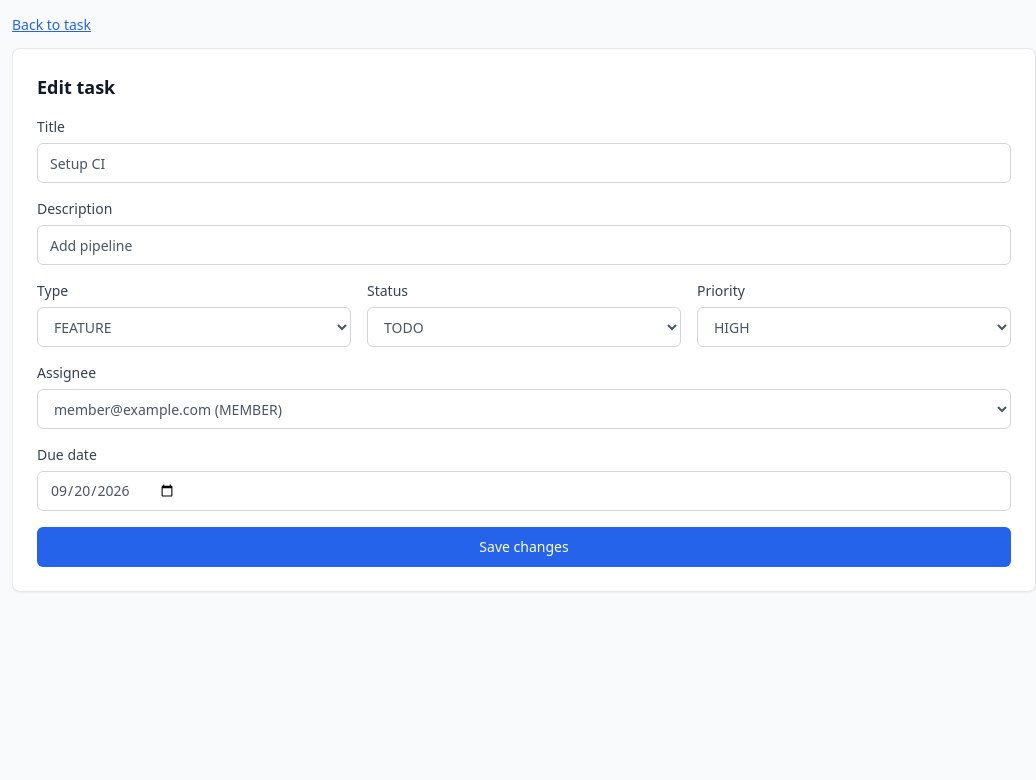
it: Task create/edit validation + assignment + delete confirmation (behavior) › edit shows client validation error for cleared title (behavior)
This screenshot has width=1036, height=780.
expect the form named "task form" is shown: met, box [37,117,1011,567]
Clear the field labelled "Title" at (524, 163), box [37,143,1011,183]
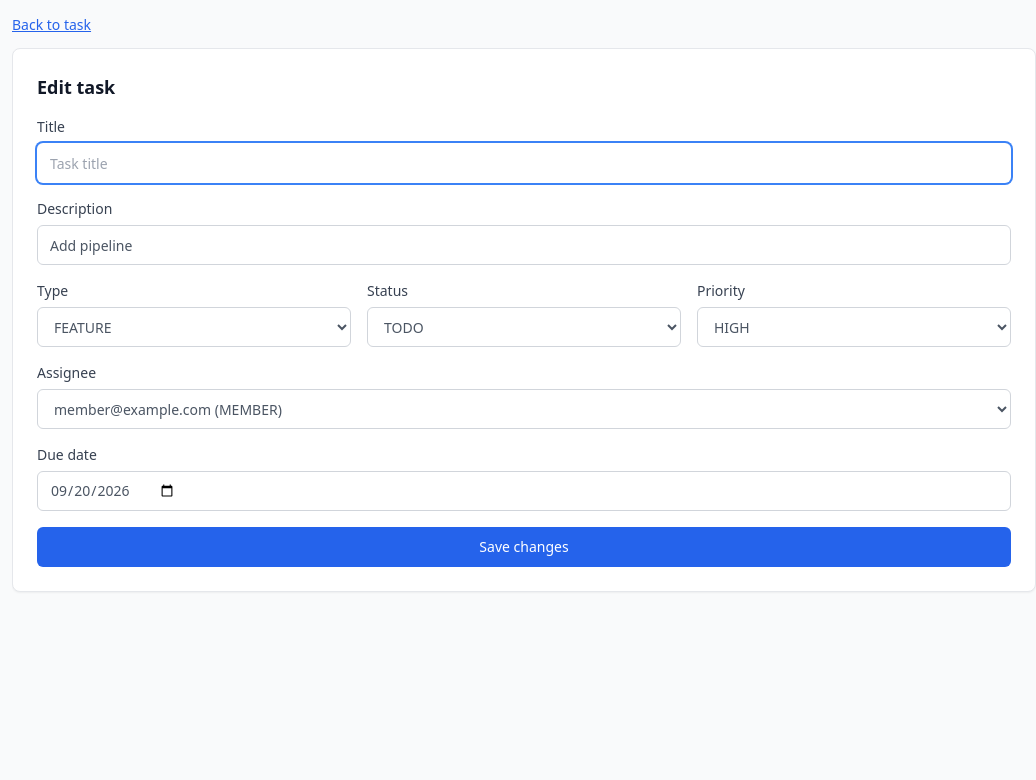
Click the button "Save changes".
click(524, 547)  # box [37,527,1011,567]
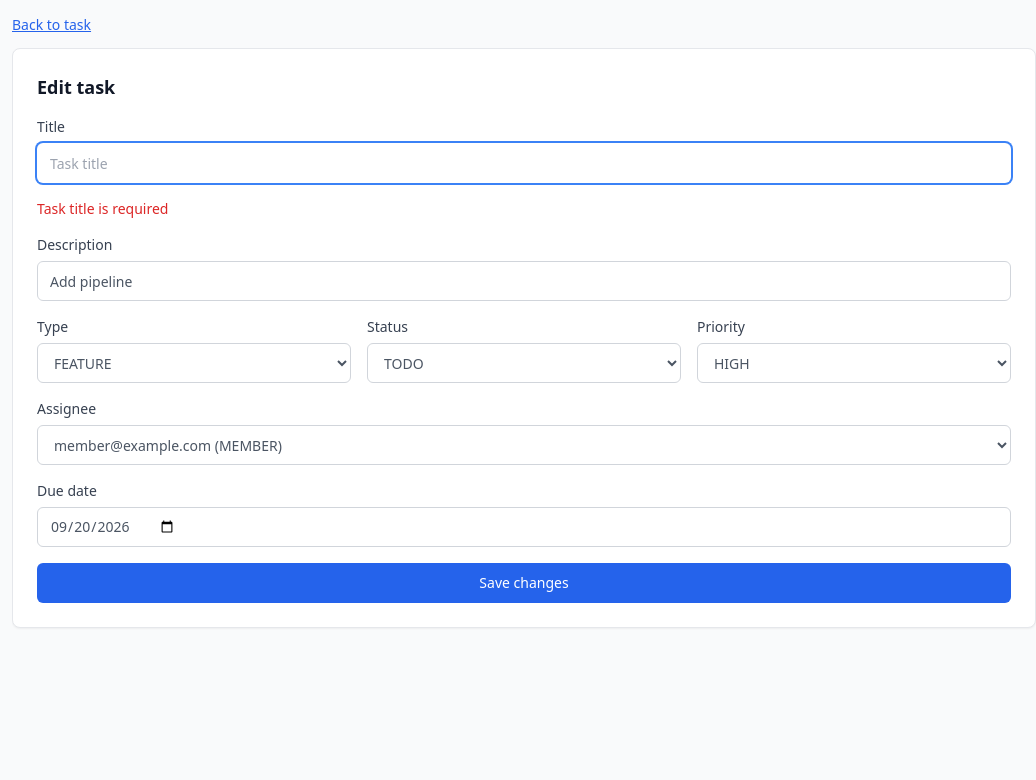
expect the text "Task title is required" is shown: met, box [37,199,168,218]
